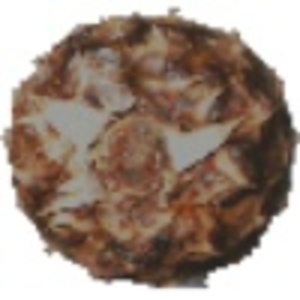abacaxi: (6, 7, 294, 280)
